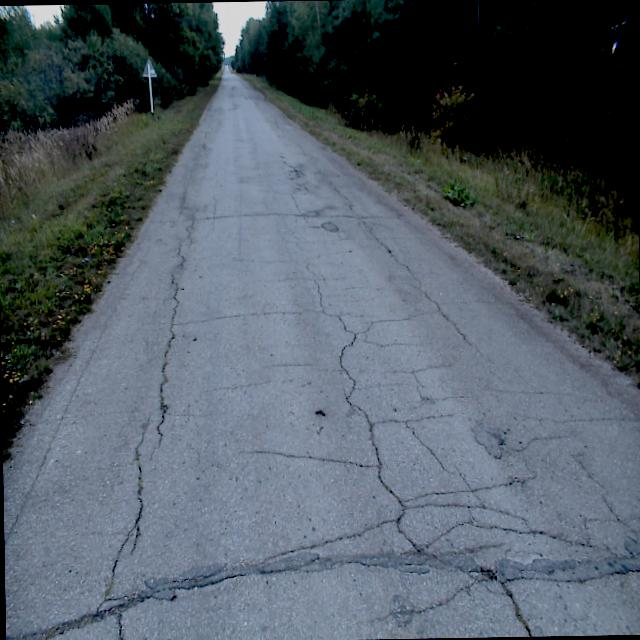road: (4, 65, 640, 640)
